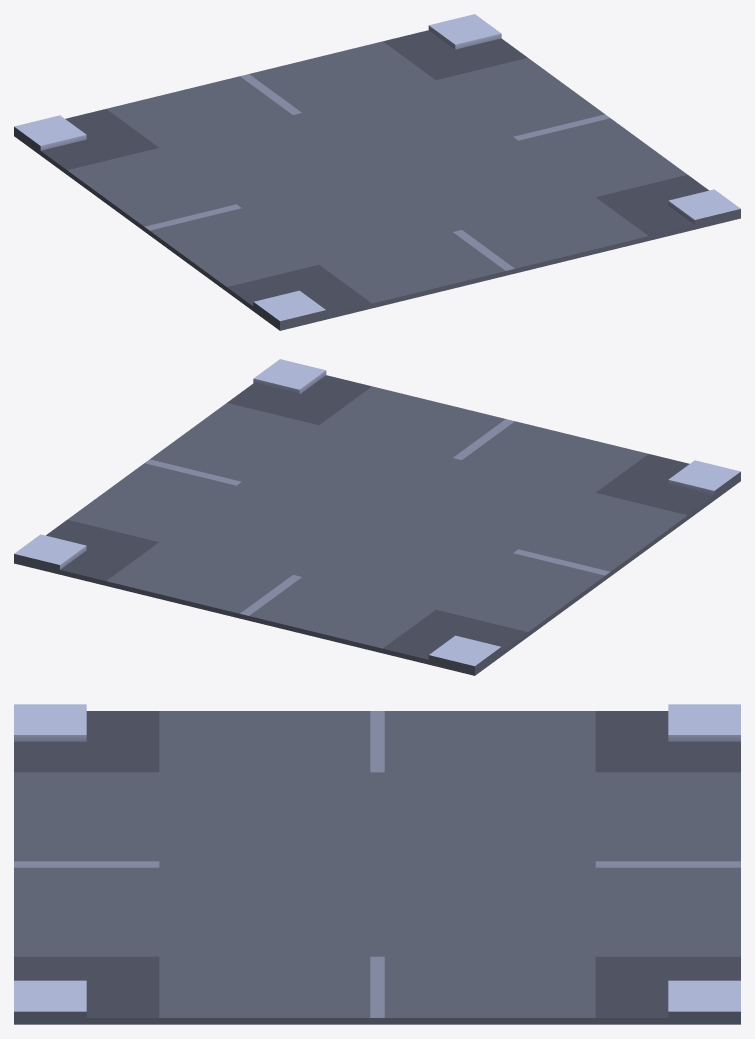
File: road-crossroad.glb
The picture shows the model from 3 angles, top to bottom: view 1: azimuth 30°, elevation 25°; view 2: azimuth 150°, elevation 25°; view 3: azimuth 270°, elevation 25°; orthographic projection. The views are drawn at different scales.
Parts seen in each view (by area): view 1: road-crossroad; view 2: road-crossroad; view 3: road-crossroad.
Part boxes in pixels (box(x1,y1,x2,y2)): road-crossroad: box(14, 14, 740, 330); road-crossroad: box(14, 359, 740, 675); road-crossroad: box(14, 704, 740, 1024).
Bounding box in the file's own units: 8 × 0.1602 × 8.
1 material, 1 textured.
